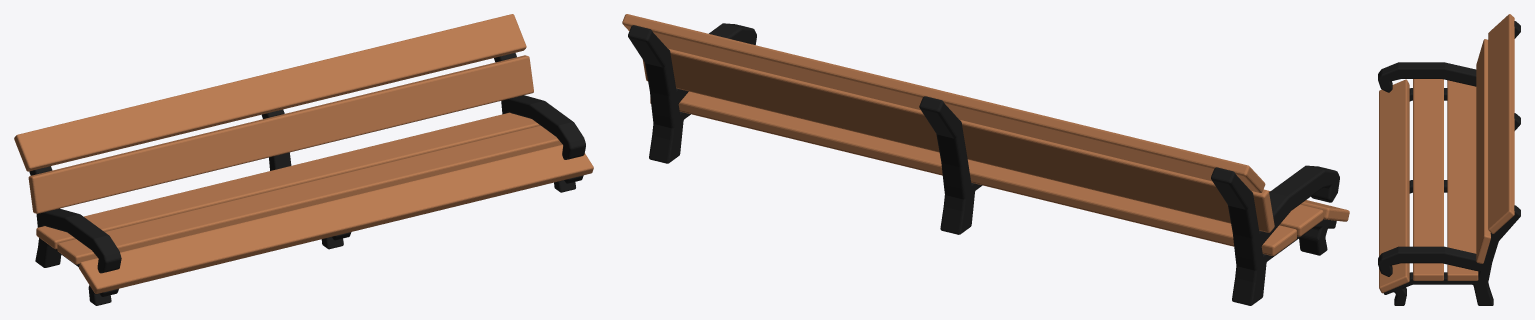
The model's file is Kursi_Taman.fbx.
3 views of the same model, side by side, from view 1: azimuth 30°, elevation 25°; view 2: azimuth 150°, elevation 25°; view 3: azimuth 270°, elevation 25° (orthographic). The views are drawn at different scales.
Parts seen in each view (by area): view 1: Chair__01; view 2: Chair__01; view 3: Chair__01.
Part boxes in pixels (x1,y1,x2,y2): Chair__01: [14, 14, 593, 305]; Chair__01: [622, 14, 1349, 305]; Chair__01: [1378, 14, 1520, 305].
Size of the model in its own units: 300 by 70.03 by 91.78.
